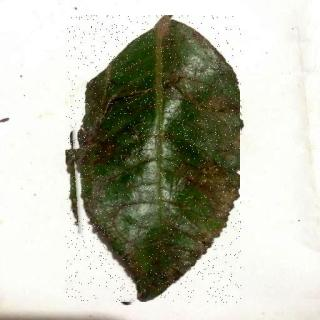Red Leaf Spot: (67, 17, 243, 306)
